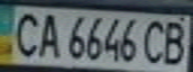4: (103, 14, 124, 62)
6: (118, 16, 145, 63), (63, 11, 87, 61), (84, 12, 106, 62)
A: (33, 9, 63, 58)
B: (157, 17, 193, 66)
C: (6, 8, 42, 59), (139, 16, 172, 65)
